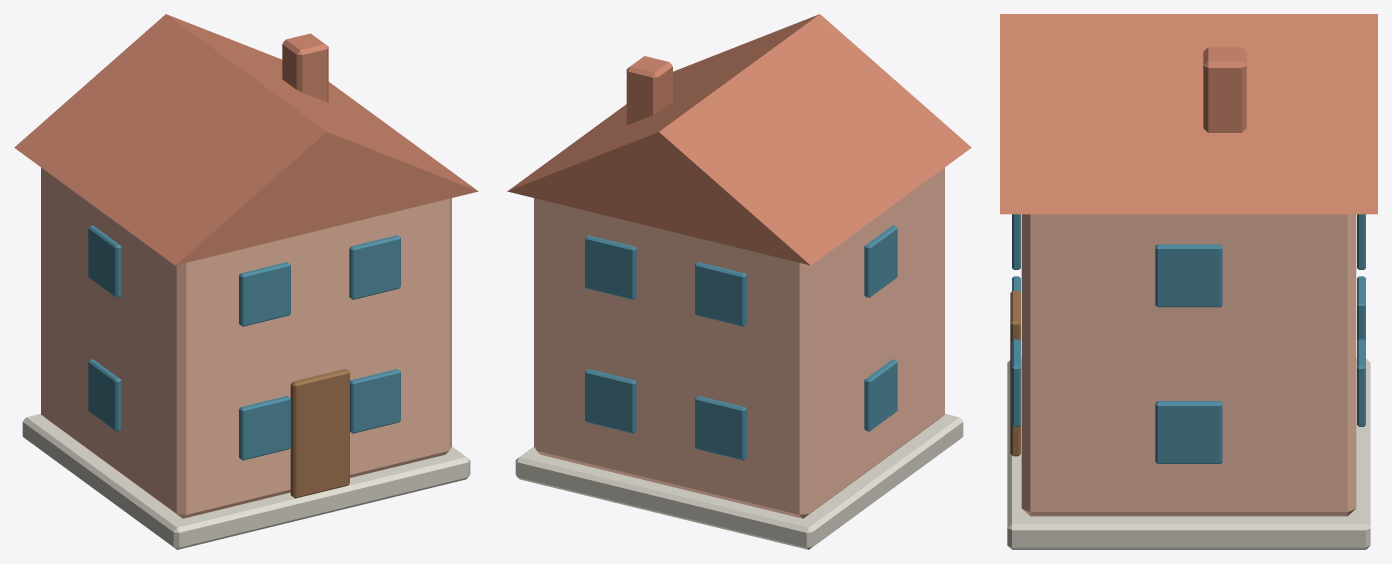
The model's file is RES_LOW_1x1_003.glb.
3 views of the same model, side by side, from view 1: azimuth 30°, elevation 25°; view 2: azimuth 150°, elevation 25°; view 3: azimuth 270°, elevation 25° (orthographic). The views are drawn at different scales.
Visible parts, largest first — view 1: RES_LOW_1x1_003_Visual; view 2: RES_LOW_1x1_003_Visual; view 3: RES_LOW_1x1_003_Visual.
Boxes of the visible parts, x1,y1,x2,y2 form: RES_LOW_1x1_003_Visual: (14,14,478,549); RES_LOW_1x1_003_Visual: (507,14,971,549); RES_LOW_1x1_003_Visual: (1000,14,1377,549).
Size of what is drawn, in the model's own units: 1.71 by 2.09 by 1.57.
